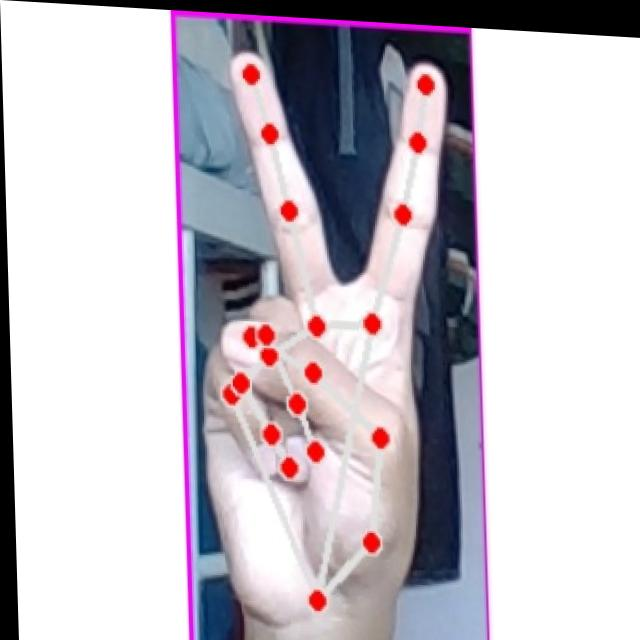V: (188, 34, 463, 640)
